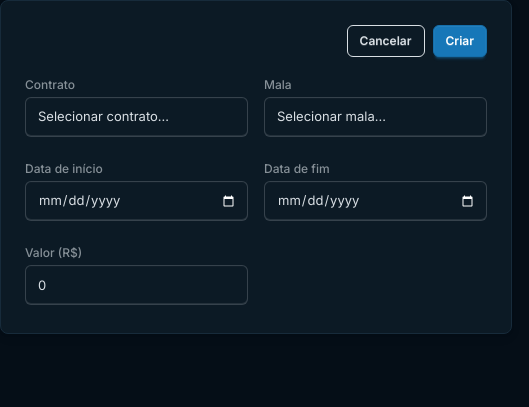
shows validation errors when submitting empty form
Click the button "Criar": click(460, 41) top-left (432, 25), bottom-right (487, 57)
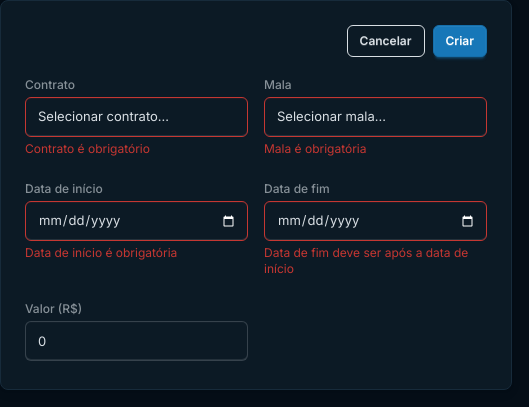
Result: the text "Contrato é obrigatório" is shown at top-left (25, 141), bottom-right (150, 156)
Result: the text "Mala é obrigatória" is shown at top-left (264, 141), bottom-right (366, 156)
